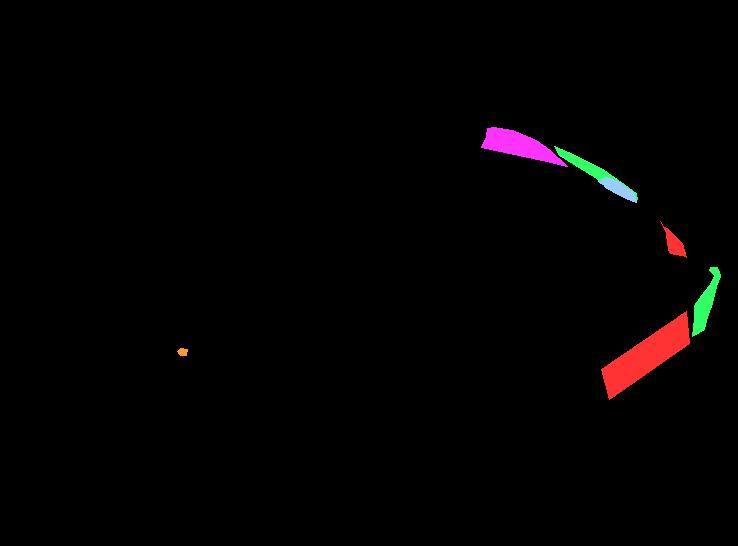Broken part: (554, 146, 637, 199), (692, 267, 720, 336)
Corrosion: (601, 177, 636, 202), (595, 176, 606, 186)
Dent: (481, 127, 567, 166)
Missing part: (601, 311, 689, 399), (660, 221, 686, 257)
Paint chip: (177, 348, 187, 355)
